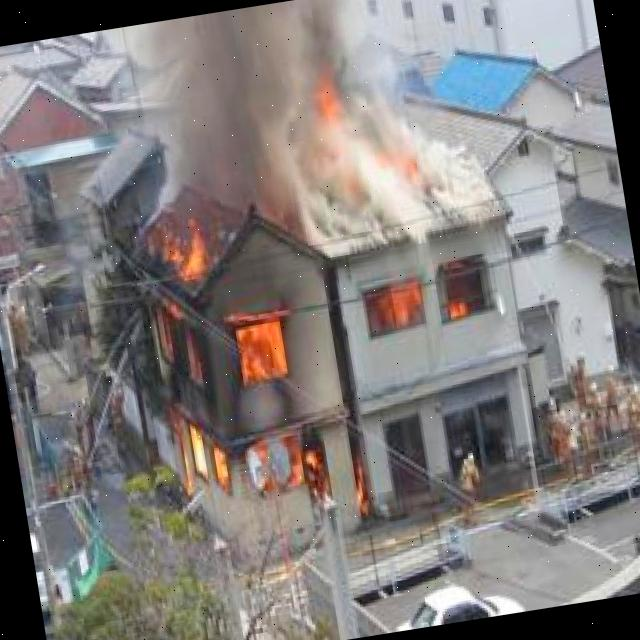fire: (111, 173, 329, 520), (313, 73, 441, 199), (352, 256, 501, 344)
